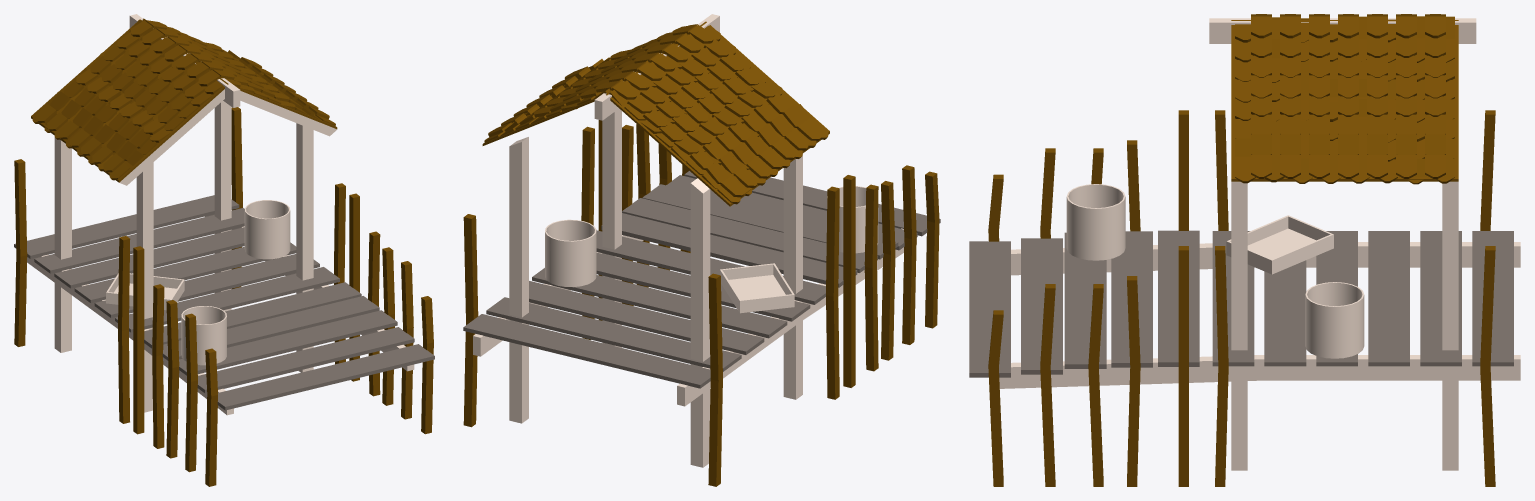
File: iskele.fbx
3 renders of one model, left to right at view 1: azimuth 30°, elevation 25°; view 2: azimuth 150°, elevation 25°; view 3: azimuth 270°, elevation 25°, orthographic. The views are drawn at different scales.
Visible parts, largest first — view 1: polySurface4, polySurface2, pCube24, pCube18, pCube19, pCube12, pCube14, pCube13, pCube8, pCube17, pCube9, pCube23 (+15 smaller); view 2: polySurface2, polySurface4, pCube9, pCube13, pCube8, pCube7, pCube14, pCube6, pCube21, pCube20, pCube15, pCube12 (+14 smaller); view 3: pCube10, pCube7, pCube24, pCube18, pCube21, pCube9, pCube20, polySurface2, polySurface4, pCylinder2, pCylinder3, pCube5 (+14 smaller).
Boxes of the visible parts, bbox=[...] form: polySurface4: bbox=[136, 123, 313, 412]; polySurface2: bbox=[54, 101, 231, 352]; pCube24: bbox=[217, 344, 434, 410]; pCube18: bbox=[197, 327, 414, 393]; pCube19: bbox=[179, 310, 397, 375]; pCube12: bbox=[133, 193, 359, 434]; pCube14: bbox=[118, 183, 345, 423]; pCube13: bbox=[14, 107, 242, 346]; pCube8: bbox=[34, 208, 244, 273]; pCube17: bbox=[185, 261, 413, 472]; pCube9: bbox=[14, 195, 239, 258]; pCube23: bbox=[205, 296, 433, 486]; polySurface2: bbox=[509, 137, 710, 467]; polySurface4: bbox=[602, 108, 802, 399]; pCube9: bbox=[463, 314, 710, 388]; pCube13: bbox=[463, 214, 722, 486]; pCube8: bbox=[486, 297, 741, 371]; pCube7: bbox=[529, 281, 764, 354]; pCube14: bbox=[581, 126, 839, 399]; pCube6: bbox=[532, 268, 787, 338]; pCube21: bbox=[601, 213, 857, 287]; pCube20: bbox=[622, 198, 877, 272]; pCube15: bbox=[622, 125, 878, 371]; pCube12: bbox=[598, 120, 855, 387]; pCube10: bbox=[999, 242, 1520, 388]; pCube7: bbox=[1368, 231, 1409, 366]; pCube24: bbox=[969, 241, 1010, 377]; pCube18: bbox=[1021, 238, 1062, 374]; pCube21: bbox=[1158, 230, 1199, 366]; pCube9: bbox=[1472, 231, 1513, 366]; pCube20: bbox=[1111, 231, 1152, 367]; polySurface2: bbox=[1442, 181, 1458, 470]; polySurface4: bbox=[1231, 183, 1247, 470]; pCylinder2: bbox=[1305, 282, 1364, 358]; pCylinder3: bbox=[1066, 184, 1125, 260]; pCube5: bbox=[1264, 260, 1306, 366].
Bounding box in the file's own units: 8.03 × 10.59 × 13.21.
